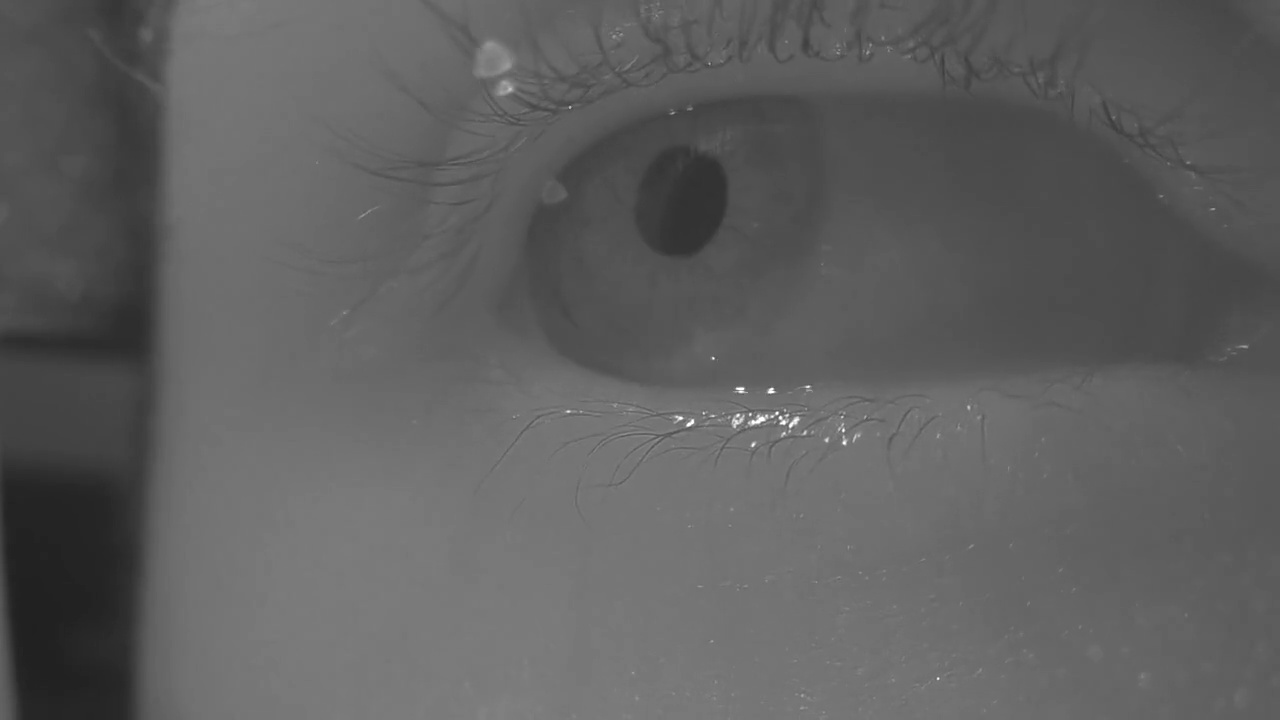pupil: (635, 147, 728, 256)
